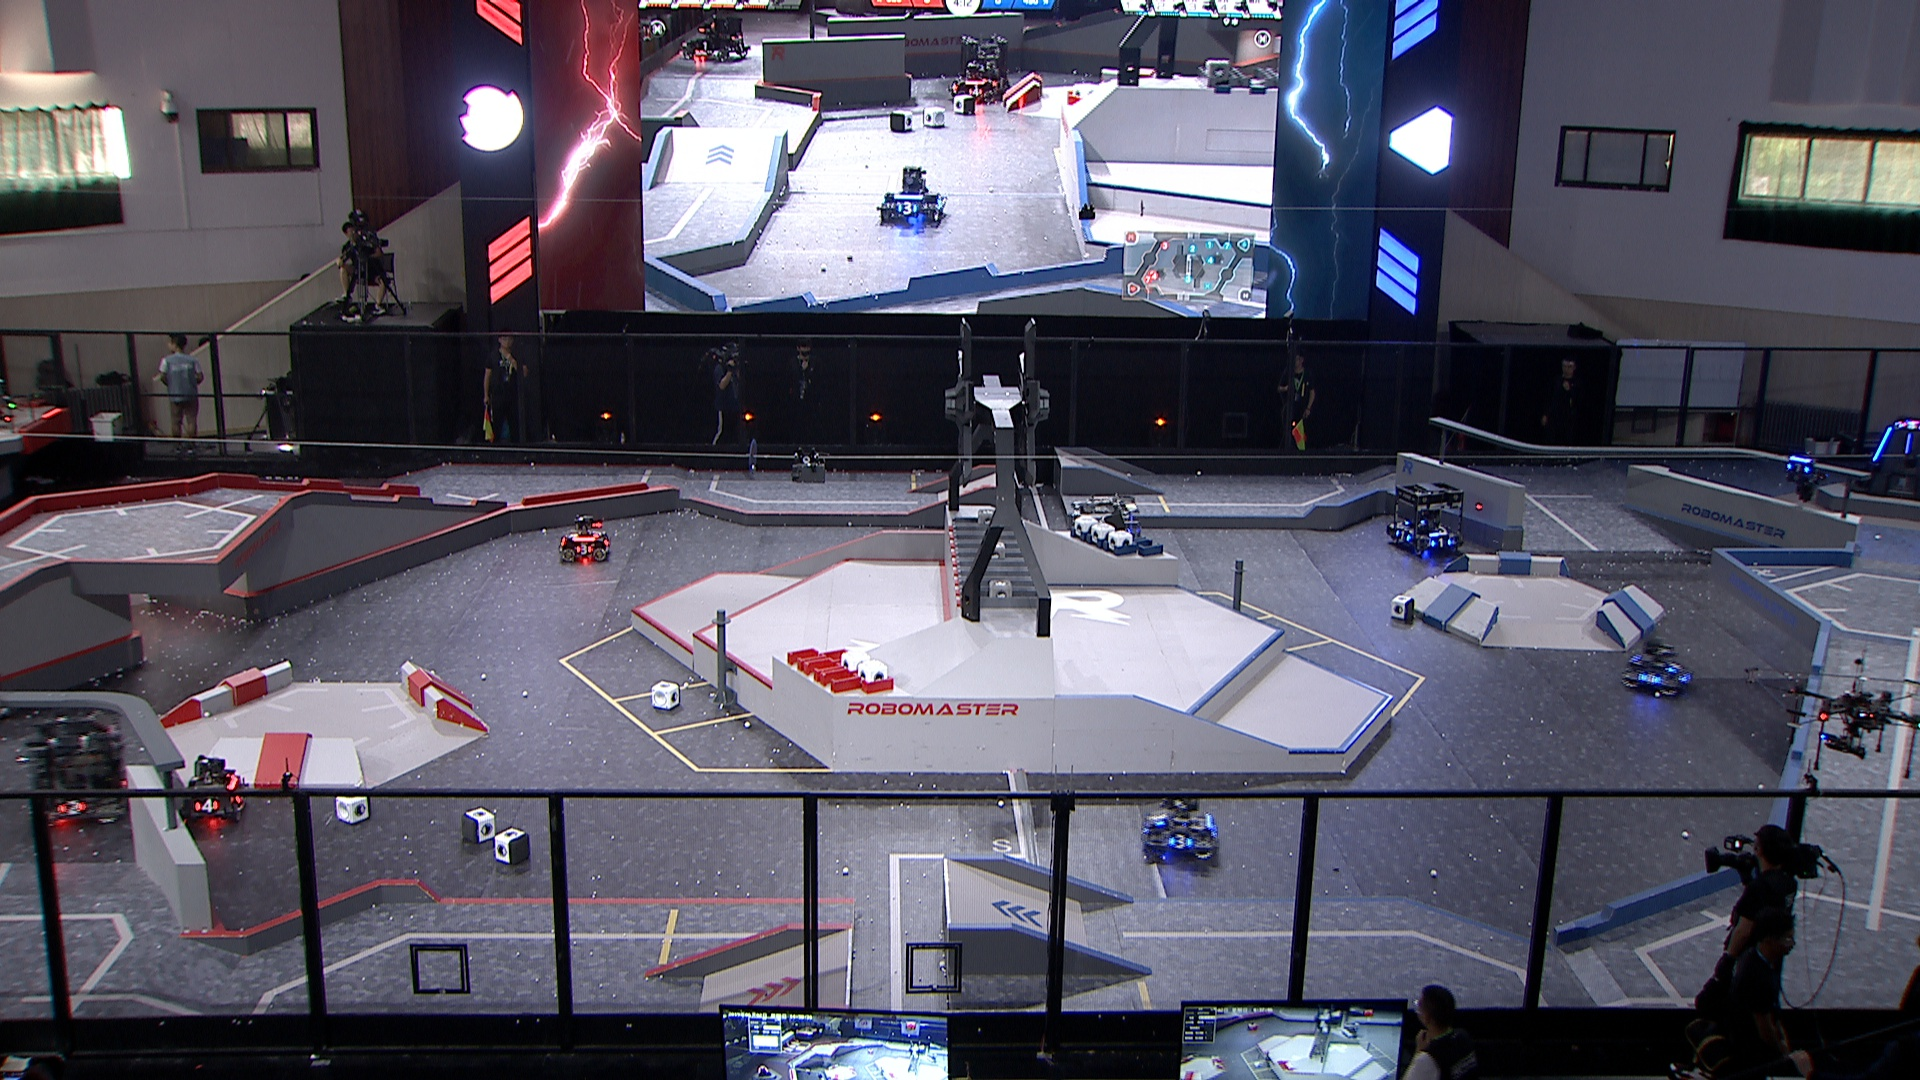armor: (1873, 427, 1898, 463), (1168, 832, 1195, 853), (55, 800, 87, 818), (193, 798, 222, 815), (1636, 670, 1662, 687), (1787, 462, 1812, 476), (1428, 535, 1455, 549), (1394, 527, 1414, 545), (1149, 814, 1168, 828), (1903, 433, 1915, 456), (1665, 661, 1684, 675), (575, 542, 593, 555)
base: (1851, 418, 1920, 502)
car: (26, 713, 131, 827), (1065, 495, 1145, 585), (1386, 481, 1466, 556), (175, 754, 248, 823), (1143, 796, 1220, 858), (1622, 640, 1695, 699), (556, 514, 612, 564)
ignore: (877, 167, 948, 225), (680, 11, 752, 65), (956, 32, 1013, 95), (949, 63, 1000, 107), (1898, 418, 1920, 433)
watcher: (1787, 455, 1830, 506)
